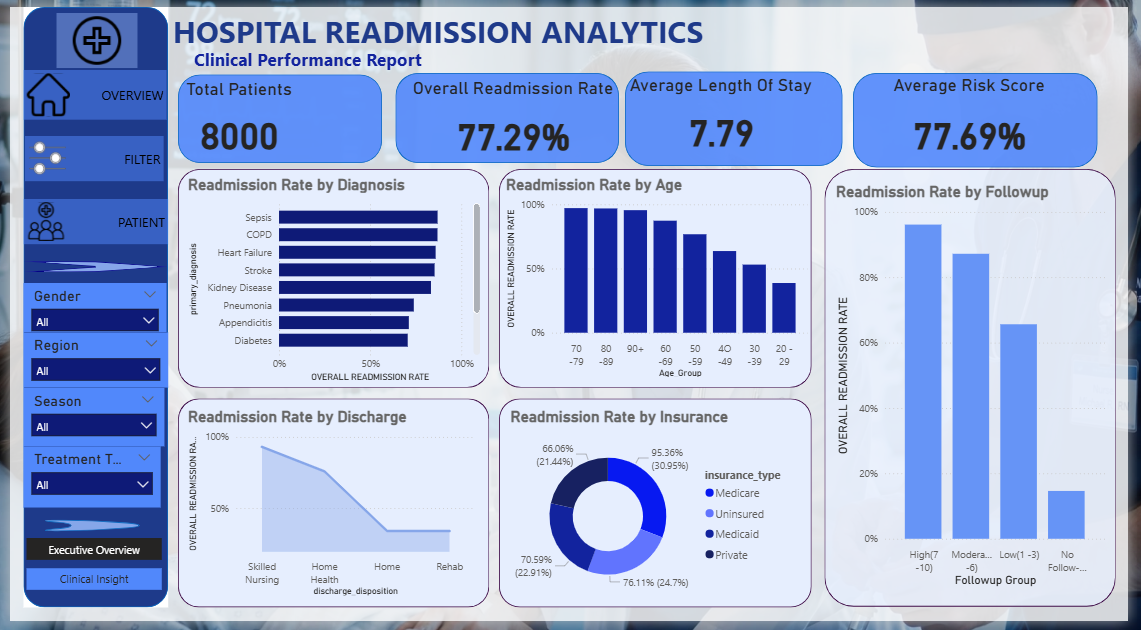

The dashboard page shown, as its layout file describes it:
{"tool":"powerbi","page":{"name":"Executive Overview","canvas":[1380,733],"ordinal":0},"visuals":[{"type":"shape","box":[207,482.5,384.2,257.9],"z":0},{"type":"shape","box":[603.5,482.5,386,257.9],"z":1000},{"type":"shape","box":[1005.3,200,359.6,540.4],"z":2000},{"type":"shape","box":[207,200,384.2,270.2],"z":3000},{"type":"shape","box":[603.5,200,386,270.2],"z":4000},{"type":"shape","box":[1040.7,81.5,301.9,116.7],"z":5000},{"type":"shape","box":[759.3,79.6,268.5,116.7],"z":6000},{"type":"shape","box":[475.9,81.5,275.9,111.1],"z":7000},{"type":"shape","box":[207.4,83.3,251.9,109.3],"z":8000},{"type":"shape","box":[16.1,0,178.6,741.1],"z":9000},{"type":"card","title":"Overall Readmission Rate","fields":{"Values":["hospital_readmission_dataset.OVERALL READMISSION RATE"]},"box":[490.7,87,261.1,111.1],"z":10000},{"type":"clusteredColumnChart","title":"Readmission Rate by Age","fields":{"Y":["hospital_readmission_dataset.OVERALL READMISSION RATE"],"Category":["hospital_readmission_dataset.Age_Group"]},"box":[607,207,382.5,254.4],"z":11000},{"type":"clusteredColumnChart","title":" Readmission Rate by Followup ","fields":{"Category":["hospital_readmission_dataset.Followup Group"],"Y":["hospital_readmission_dataset.OVERALL READMISSION RATE"]},"box":[1014,215.8,342.1,503.5],"z":12000},{"type":"card","title":"Total Patients","fields":{"Values":["hospital_readmission_dataset.Total Patients"]},"box":[207,89.5,150.9,105.3],"z":13000},{"type":"card","title":"Average Length Of Stay","fields":{"Values":["hospital_readmission_dataset.Average Length of Stay"]},"box":[759.3,83.3,237,111.1],"z":14000},{"type":"card","title":"Average Risk Score","fields":{"Values":["hospital_readmission_dataset.Average Risk Score"]},"box":[1066.7,83.3,235.2,118.5],"z":15000},{"type":"donutChart","title":"Readmission Rate by Insurance","fields":{"Category":["hospital_readmission_dataset.insurance_type"],"Y":["hospital_readmission_dataset.OVERALL READMISSION RATE"]},"box":[612.3,494.7,359.6,245.6],"z":16000},{"type":"textbox","box":[222.8,43.9,631.6,49.1],"z":17000},{"type":"pageNavigator","box":[19.6,655.4,167.9,64.3],"z":18000},{"type":"textbox","box":[196.5,0,1245.6,68.4],"z":19000},{"type":"slicer","fields":{"Values":["hospital_readmission_dataset.Gender short"]},"box":[16.1,341.1,176.8,60.7],"z":20000},{"type":"actionButton","title":"OVERV","box":[17.3,76.9,176.9,61.5],"z":21000},{"type":"slicer","fields":{"Values":["hospital_readmission_dataset.Regions"]},"box":[16.1,401.8,178.6,67.9],"z":22000},{"type":"actionButton","box":[19.2,159.6,171.2,55.8],"z":23000},{"type":"actionButton","box":[17.3,236.5,178.8,55.8],"z":24000},{"type":"shape","box":[17,307.5,177.4,26.4],"z":25000},{"type":"slicer","fields":{"Values":["hospital_readmission_dataset.Seasons"]},"box":[16.7,470.4,174.1,72.2],"z":26000},{"type":"slicer","fields":{"Values":["hospital_readmission_dataset.Treatment Type"]},"box":[16.1,542.9,169.6,75],"z":27000},{"type":"barChart","title":" Readmission Rate by Diagnosis","fields":{"Category":["hospital_readmission_dataset.primary_diagnosis"],"Y":["hospital_readmission_dataset.OVERALL READMISSION RATE"]},"box":[214,207,370.2,259.6],"z":28000},{"type":"stackedAreaChart","title":"Readmission Rate by Discharge","fields":{"Category":["hospital_readmission_dataset.discharge_disposition"],"Y":["hospital_readmission_dataset.OVERALL READMISSION RATE"]},"box":[214,494.7,368.4,236.8],"z":29000},{"type":"actionButton","box":[56.6,7.5,100,67.9],"z":30000},{"type":"shape","box":[17,626.4,169.8,28.3],"z":31000}]}

Visuals, with their boxes on the page's 1380x733 design canvas (x1, y1, x2, y2). These are canvas units, not pixel positions in the 1141x630 screenshot, which may show the page scaled, cropped or inside an application window:
shape: [207, 482, 591, 740]
shape: [604, 482, 990, 740]
shape: [1005, 200, 1365, 740]
shape: [207, 200, 591, 470]
shape: [604, 200, 990, 470]
shape: [1041, 82, 1343, 198]
shape: [759, 80, 1028, 196]
shape: [476, 82, 752, 193]
shape: [207, 83, 459, 193]
shape: [16, 0, 195, 741]
"Overall Readmission Rate" card: [491, 87, 752, 198]
"Readmission Rate by Age" clusteredColumnChart: [607, 207, 990, 461]
" Readmission Rate by Followup " clusteredColumnChart: [1014, 216, 1356, 719]
"Total Patients" card: [207, 90, 358, 195]
"Average Length Of Stay" card: [759, 83, 996, 194]
"Average Risk Score" card: [1067, 83, 1302, 202]
"Readmission Rate by Insurance" donutChart: [612, 495, 972, 740]
textbox: [223, 44, 854, 93]
pageNavigator: [20, 655, 188, 720]
textbox: [196, 0, 1442, 68]
slicer - hospital_readmission_dataset.Gender short: [16, 341, 193, 402]
"OVERV" actionButton: [17, 77, 194, 138]
slicer - hospital_readmission_dataset.Regions: [16, 402, 195, 470]
actionButton: [19, 160, 190, 215]
actionButton: [17, 236, 196, 292]
shape: [17, 308, 194, 334]
slicer - hospital_readmission_dataset.Seasons: [17, 470, 191, 543]
slicer - hospital_readmission_dataset.Treatment Type: [16, 543, 186, 618]
" Readmission Rate by Diagnosis" barChart: [214, 207, 584, 467]
"Readmission Rate by Discharge" stackedAreaChart: [214, 495, 582, 732]
actionButton: [57, 8, 157, 75]
shape: [17, 626, 187, 655]
